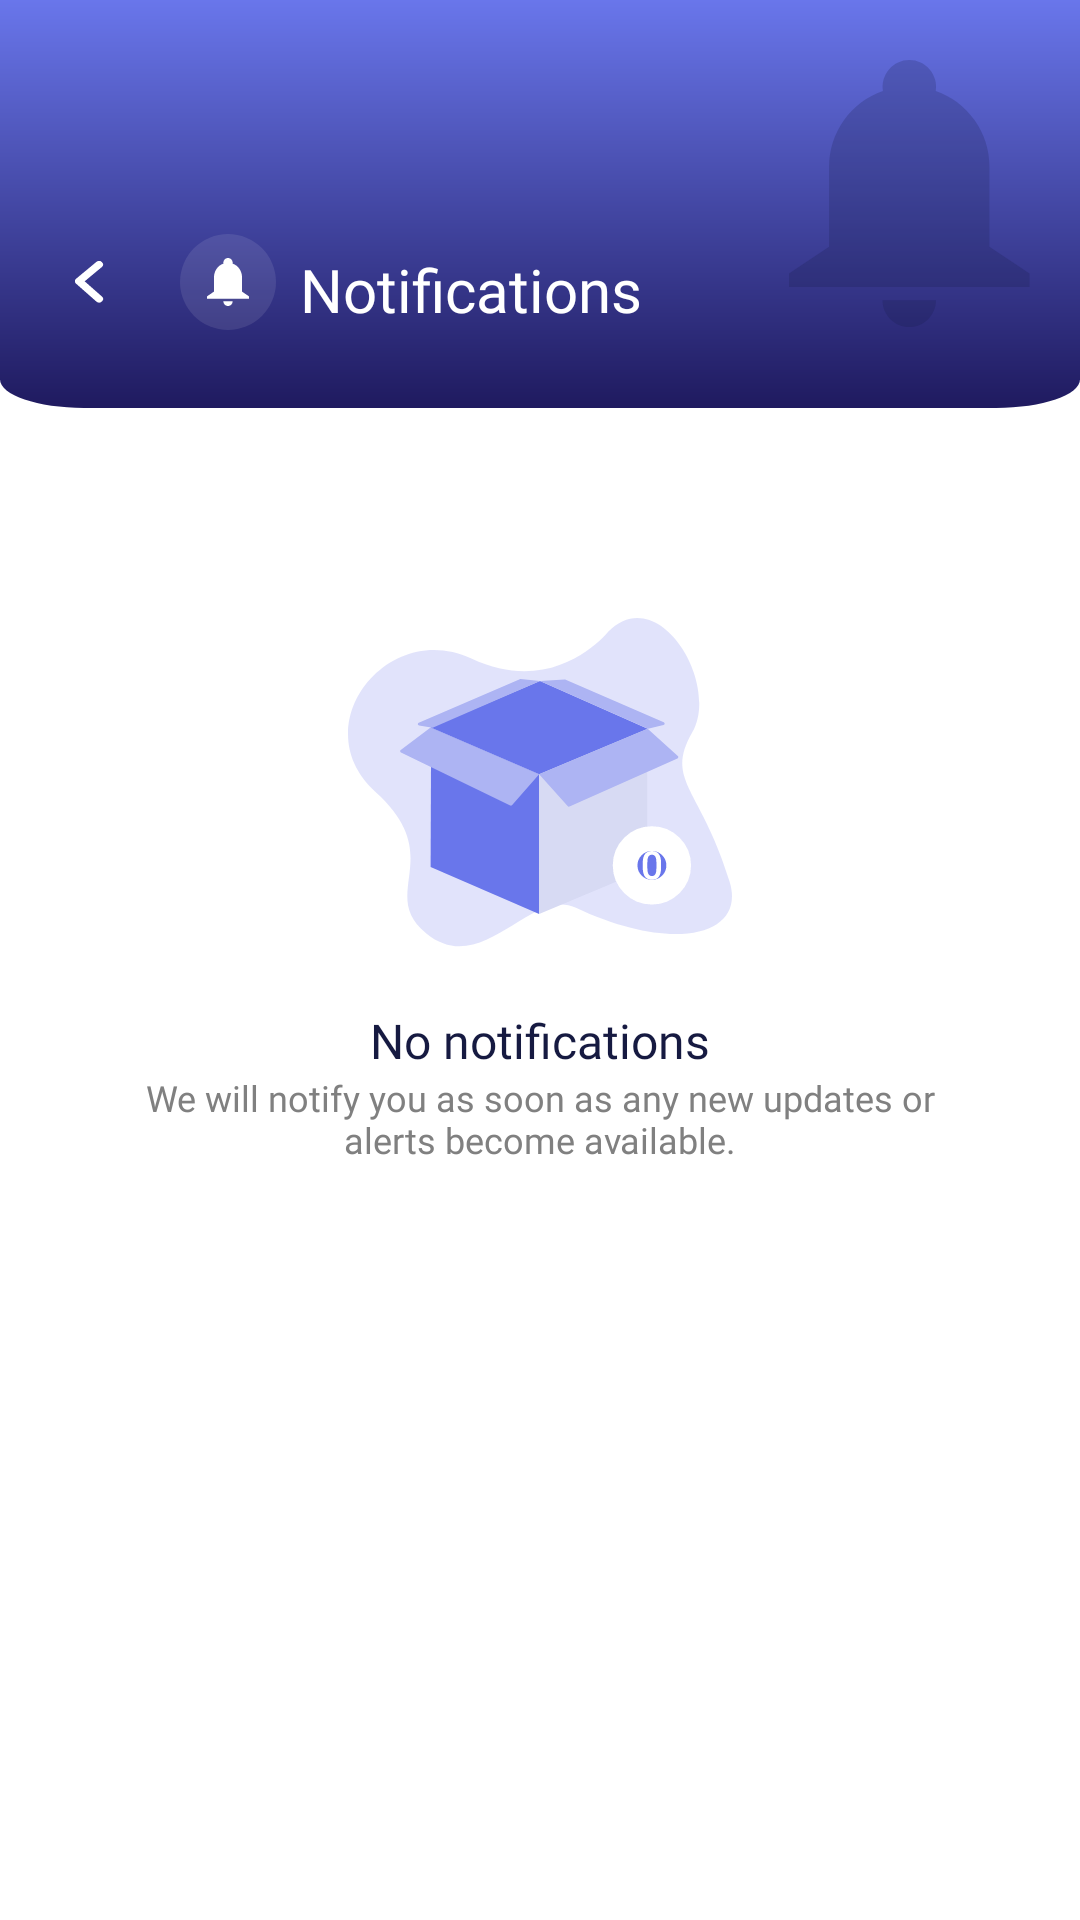

Icon bounding boxes for this 1080px×1920px phone screenshot, format (x1, y1, x2, y2):
go back add logs: (75, 255, 105, 303)
